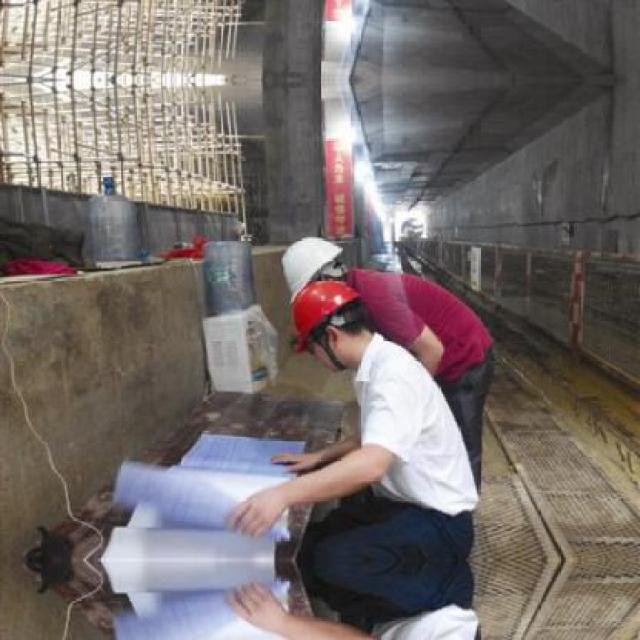helmet: (278, 273, 365, 364), (278, 232, 362, 310)
